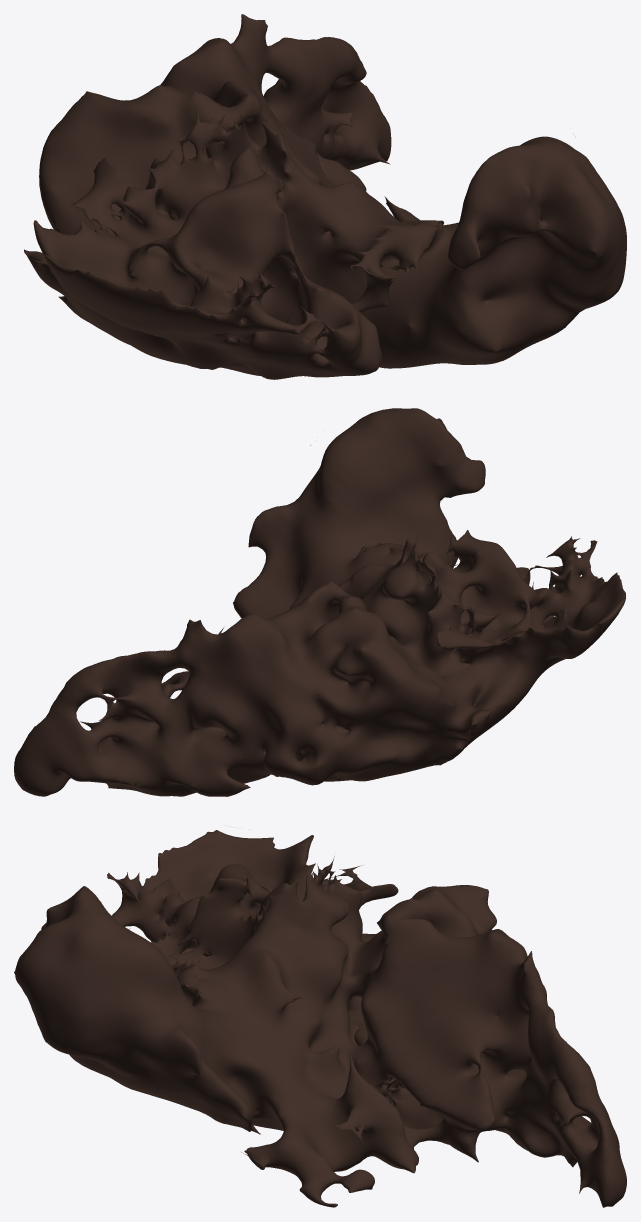
File: Right Ventricle.obj
The picture shows the model from 3 angles, top to bottom: view 1: azimuth 30°, elevation 25°; view 2: azimuth 150°, elevation 25°; view 3: azimuth 270°, elevation 25°; orthographic projection. The views are drawn at different scales.
Visible parts, largest first — view 1: grp1; view 2: grp1; view 3: grp1.
Part boxes in pixels (x1,y1,x2,y2): grp1: (24, 14, 626, 379); grp1: (14, 408, 625, 796); grp1: (14, 830, 626, 1207).
Bounding box in the file's own units: 92.73 × 50.49 × 109.
